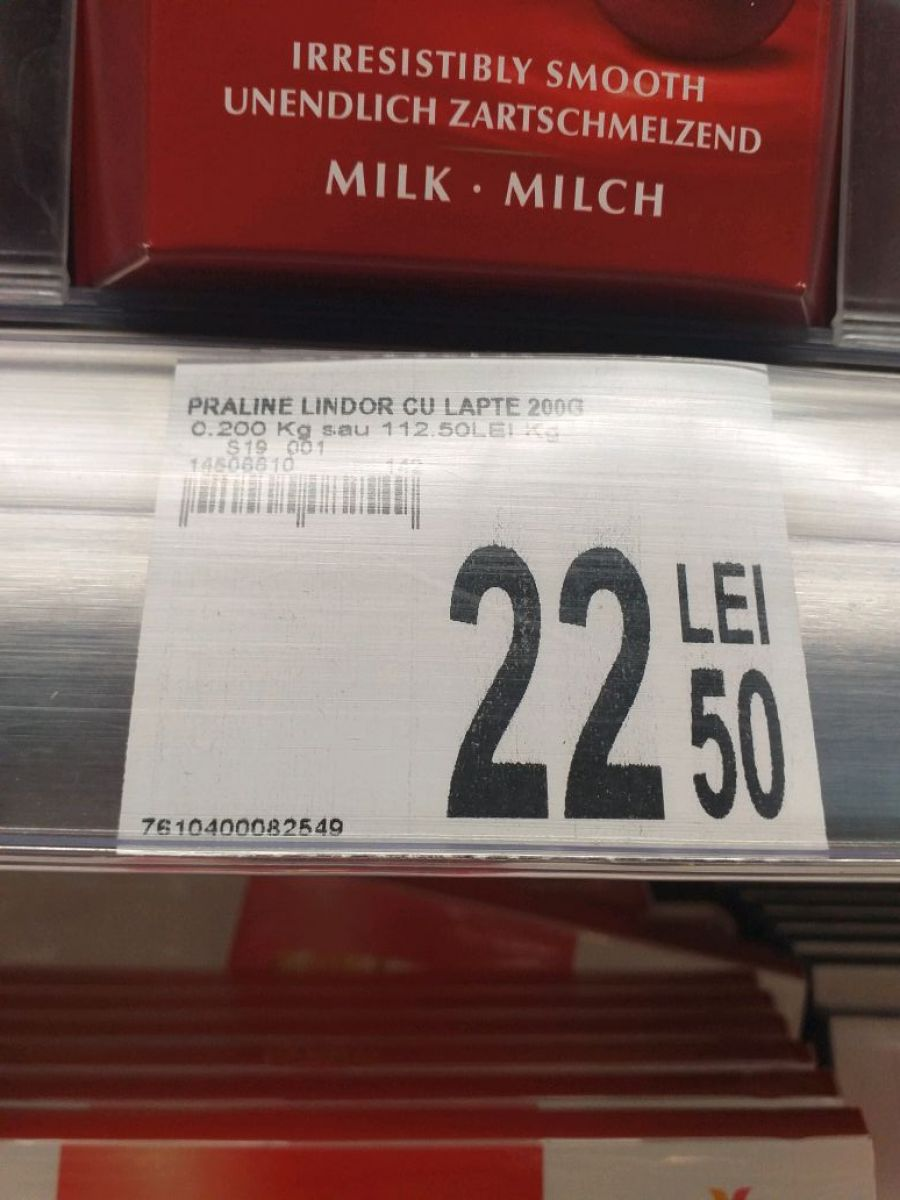price_bani: (680, 655, 795, 826)
price_lei: (436, 528, 676, 831)
price_tag: (100, 335, 859, 898)
product_id: (126, 811, 357, 849)
product_name: (170, 382, 604, 420)
